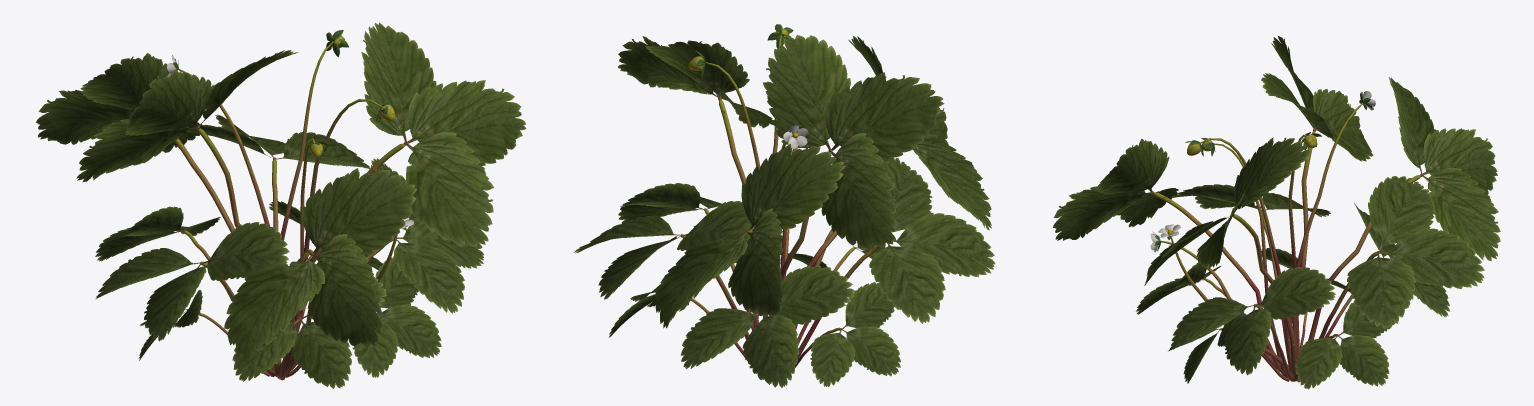
3 renders of one model, left to right at view 1: azimuth 30°, elevation 25°; view 2: azimuth 150°, elevation 25°; view 3: azimuth 270°, elevation 25°, orthographic. The views are drawn at different scales.
Parts seen in each view (by area): view 1: leaf2, leaf1, branch1, leaf3; view 2: leaf2, leaf1, branch1, leaf3, flower1; view 3: leaf1, leaf2, branch1, leaf3, flower1.
Boxes of the visible parts, x1=… form: leaf2: x1=36, y1=22, x2=526, y2=360; leaf1: x1=95, y1=114, x2=483, y2=388; branch1: x1=174, y1=41, x2=407, y2=380; leaf3: x1=171, y1=30, x2=406, y2=230; leaf2: x1=618, y1=35, x2=991, y2=328; leaf1: x1=573, y1=157, x2=995, y2=387; branch1: x1=680, y1=34, x2=878, y2=367; leaf3: x1=695, y1=24, x2=802, y2=142; flower1: x1=783, y1=125, x2=808, y2=148; leaf1: x1=1136, y1=176, x2=1484, y2=389; leaf2: x1=1053, y1=36, x2=1500, y2=285; branch1: x1=1151, y1=102, x2=1423, y2=382; leaf3: x1=1154, y1=93, x2=1372, y2=251; flower1: x1=1150, y1=91, x2=1375, y2=252.
Bounding box in the file's own units: 0.4581 × 0.5624 × 0.3898.
